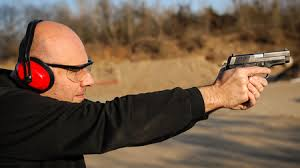gun: (217, 47, 291, 110)
